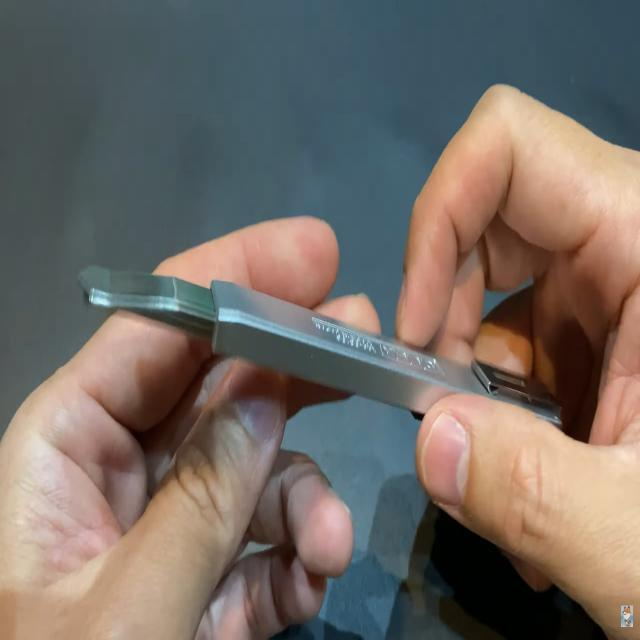cutter: (14, 125, 640, 600)
